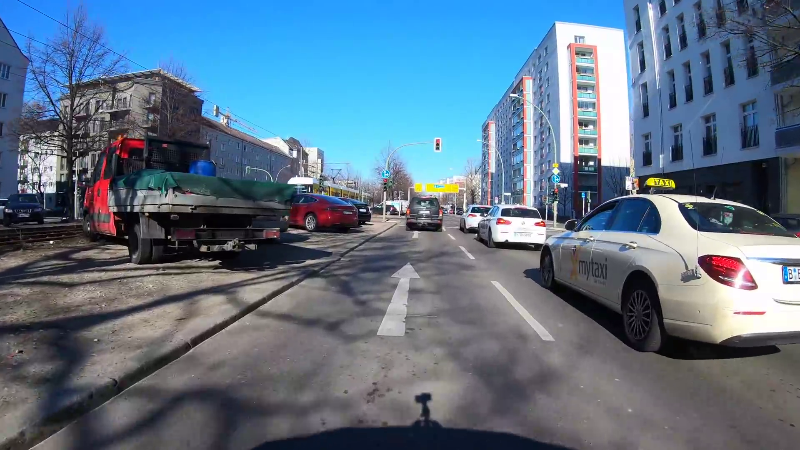Plate: (780, 262, 800, 284)
